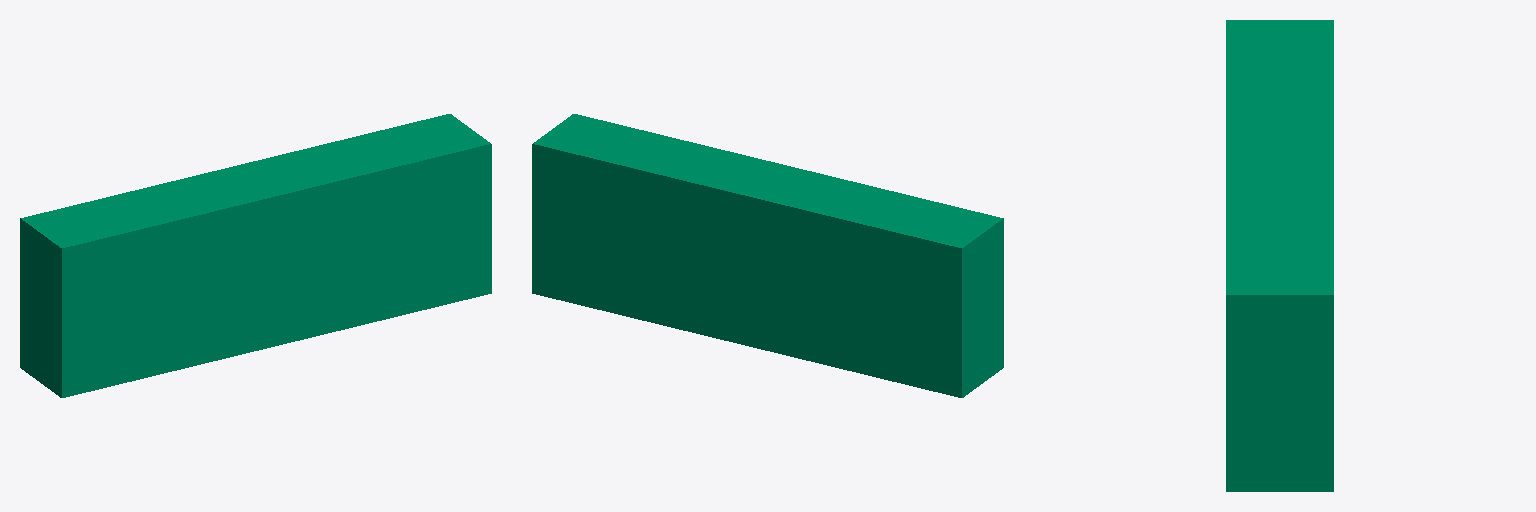
URDF robot description (nanosaur):
<?xml version="1.0"?>
<!--
Copyright (C) 2020, [author] <[email redacted]>
All rights reserved
Redistribution and use in source and binary forms, with or without
modification, are permitted provided that the following conditions are met:
1. Redistributions of source code must retain the above copyright 
   notice, this list of conditions and the following disclaimer.
2. Redistributions in binary form must reproduce the above copyright
   notice, this list of conditions and the following disclaimer in the
   documentation and/or other materials provided with the distribution.
3. Neither the name of the copyright holder nor the names of its 
   contributors may be used to endorse or promote products derived 
   from this software without specific prior written permission.
 
THIS SOFTWARE IS PROVIDED BY THE COPYRIGHT [author] 
CONTRIBUTORS "AS IS" AND ANY EXPRESS OR IMPLIED WARRANTIES, INCLUDING, 
BUT NOT LIMITED TO, THE IMPLIED WARRANTIES OF MERCHANTABILITY AND FITNESS 
FOR A PARTICULAR PURPOSE ARE DISCLAIMED. IN NO EVENT SHALL THE COPYRIGHT
HOLDER OR CONTRIBUTORS BE LIABLE FOR ANY DIRECT, INDIRECT, INCIDENTAL, 
SPECIAL, EXEMPLARY, OR CONSEQUENTIAL DAMAGES (INCLUDING, BUT NOT LIMITED TO,
PROCUREMENT OF SUBSTITUTE GOODS OR SERVICES; LOSS OF USE, DATA, OR PROFITS; 
OR BUSINESS INTERRUPTION) HOWEVER CAUSED AND ON ANY THEORY OF LIABILITY, 
WHETHER IN CONTRACT, STRICT LIABILITY, OR TORT (INCLUDING NEGLIGENCE 
OR OTHERWISE) ARISING IN ANY WAY OUT OF THE USE OF THIS SOFTWARE, 
EVEN IF ADVISED OF THE POSSIBILITY OF SUCH DAMAGE.
-->
<robot name="nanosaur">
  <link name="base_link">
  </link>

  <joint name="base_link" type="fixed">
    <parent link="base_link"/>
    <child link="body"/>
  </joint>

  <link name="body">
    <visual>
      <geometry>
        <mesh filename="package://nanosaur_description/meshes/base_rear.stl" scale="0.001 0.001 0.001"/>
      </geometry>
    </visual>
  </link>


  <link name="right_leg">
    <visual>
      <geometry>
        <box size="0.6 0.1 0.2"/>
      </geometry>
    </visual>
  </link>

  <joint name="base_to_right_leg" type="fixed">
    <parent link="base_link"/>
    <child link="right_leg"/>
  </joint>

</robot>

--- Facts derived from the render (not from the file) ---
The picture shows the robot from 3 angles, left to right: view 1: azimuth 30°, elevation 25°; view 2: azimuth 150°, elevation 25°; view 3: azimuth 270°, elevation 25°; orthographic projection.
Model nanosaur with 3 links and 2 joints (2 fixed), rooted at base_link, posed every joint at zero.
Links seen in each view (by area): view 1: right_leg; view 2: right_leg; view 3: right_leg.
Link boxes in pixels (x1,y1,x2,y2): right_leg: [20, 114, 491, 397]; right_leg: [532, 114, 1003, 397]; right_leg: [1226, 20, 1333, 491].
Bounding box of the posed robot: 0.6 × 0.1 × 0.2 m (x, y, z).
Meshes: 1 distinct files referenced, 1 mesh visuals loaded (1 binary STL).